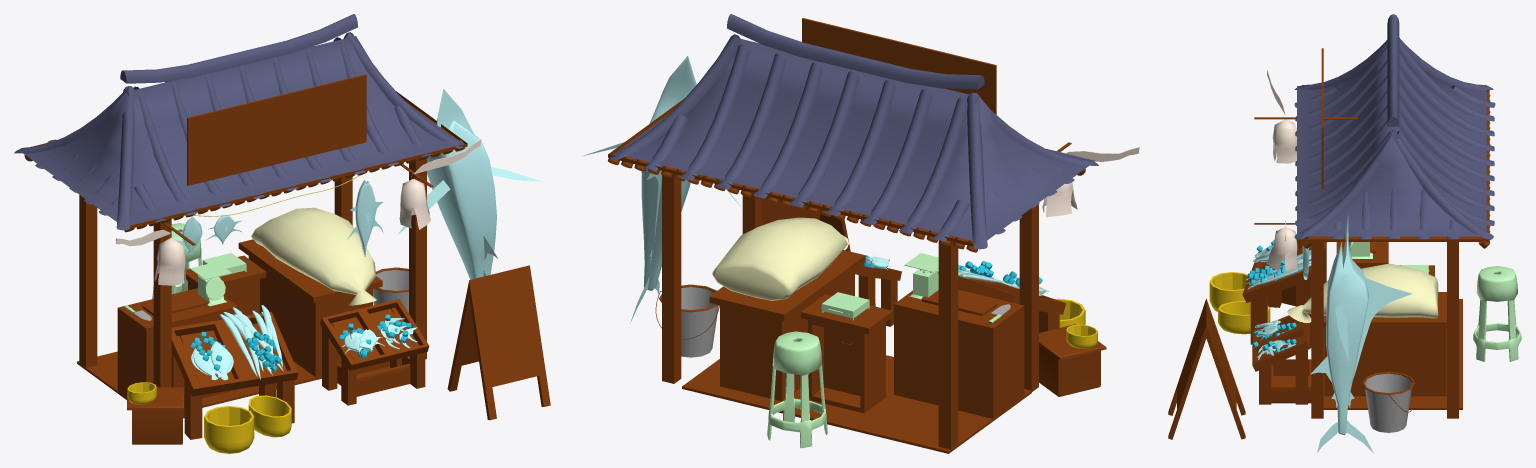
Rendered from 생선 가게_UV_최종_스무딩그룹수정.fbx.
3 renders of one model, left to right at view 1: azimuth 30°, elevation 25°; view 2: azimuth 150°, elevation 25°; view 3: azimuth 270°, elevation 25°, orthographic. The views are drawn at different scales.
Visible parts, largest first — view 1: Box015, Signboard, Fish, Roof_New, A_Menu, Salt, Stall001, Box013, Stall, Box011, Cylinder287, Woven_Basket001 (+19 smaller); view 2: Box015, Roof_New, Box011, Box013, Salt, Counter, Floor, Signboard, Fish, Chair, Cylinder287, Bucket (+23 smaller); view 3: Box015, Fish, Box013, Roof_New, Salt, A_Menu, Chair, Stall, Bucket, Stall001, Floor, Cylinder287 (+26 smaller).
Boxes of the visible parts, x1,y1,x2,y2 form: Box015: (23,36,462,226); Signboard: (187,74,366,185); Fish: (205,89,541,379); Roof_New: (31,91,467,387); A_Menu: (447,265,550,420); Salt: (251,207,376,305); Stall001: (171,311,298,439); Box013: (238,239,382,377); Stall: (320,299,429,405); Box011: (117,288,237,398); Cylinder287: (120,14,357,83); Woven_Basket001: (204,406,254,453); Box015: (622,37,1095,240); Roof_New: (608,98,1038,449); Box011: (894,289,1024,418); Box013: (709,250,865,401); Salt: (712,217,848,300); Counter: (801,294,893,413); Floor: (682,355,1031,453); Signboard: (802,18,996,114); Fish: (582,56,1002,323); Chair: (767,331,827,448); Cylinder287: (727,14,984,89); Bucket: (655,284,719,357); Box015: (1297,43,1486,236); Fish: (1246,213,1412,453); Box013: (1323,292,1446,396); Roof_New: (1297,90,1489,418); Salt: (1287,263,1438,322); A_Menu: (1168,298,1245,439); Chair: (1473,266,1521,361); Stall: (1252,312,1309,404); Bucket: (1361,371,1415,432); Stall001: (1242,242,1326,348); Floor: (1323,299,1462,409); Cylinder287: (1387,14,1399,126).
Size of the model in its own units: 656 by 425 by 468.
